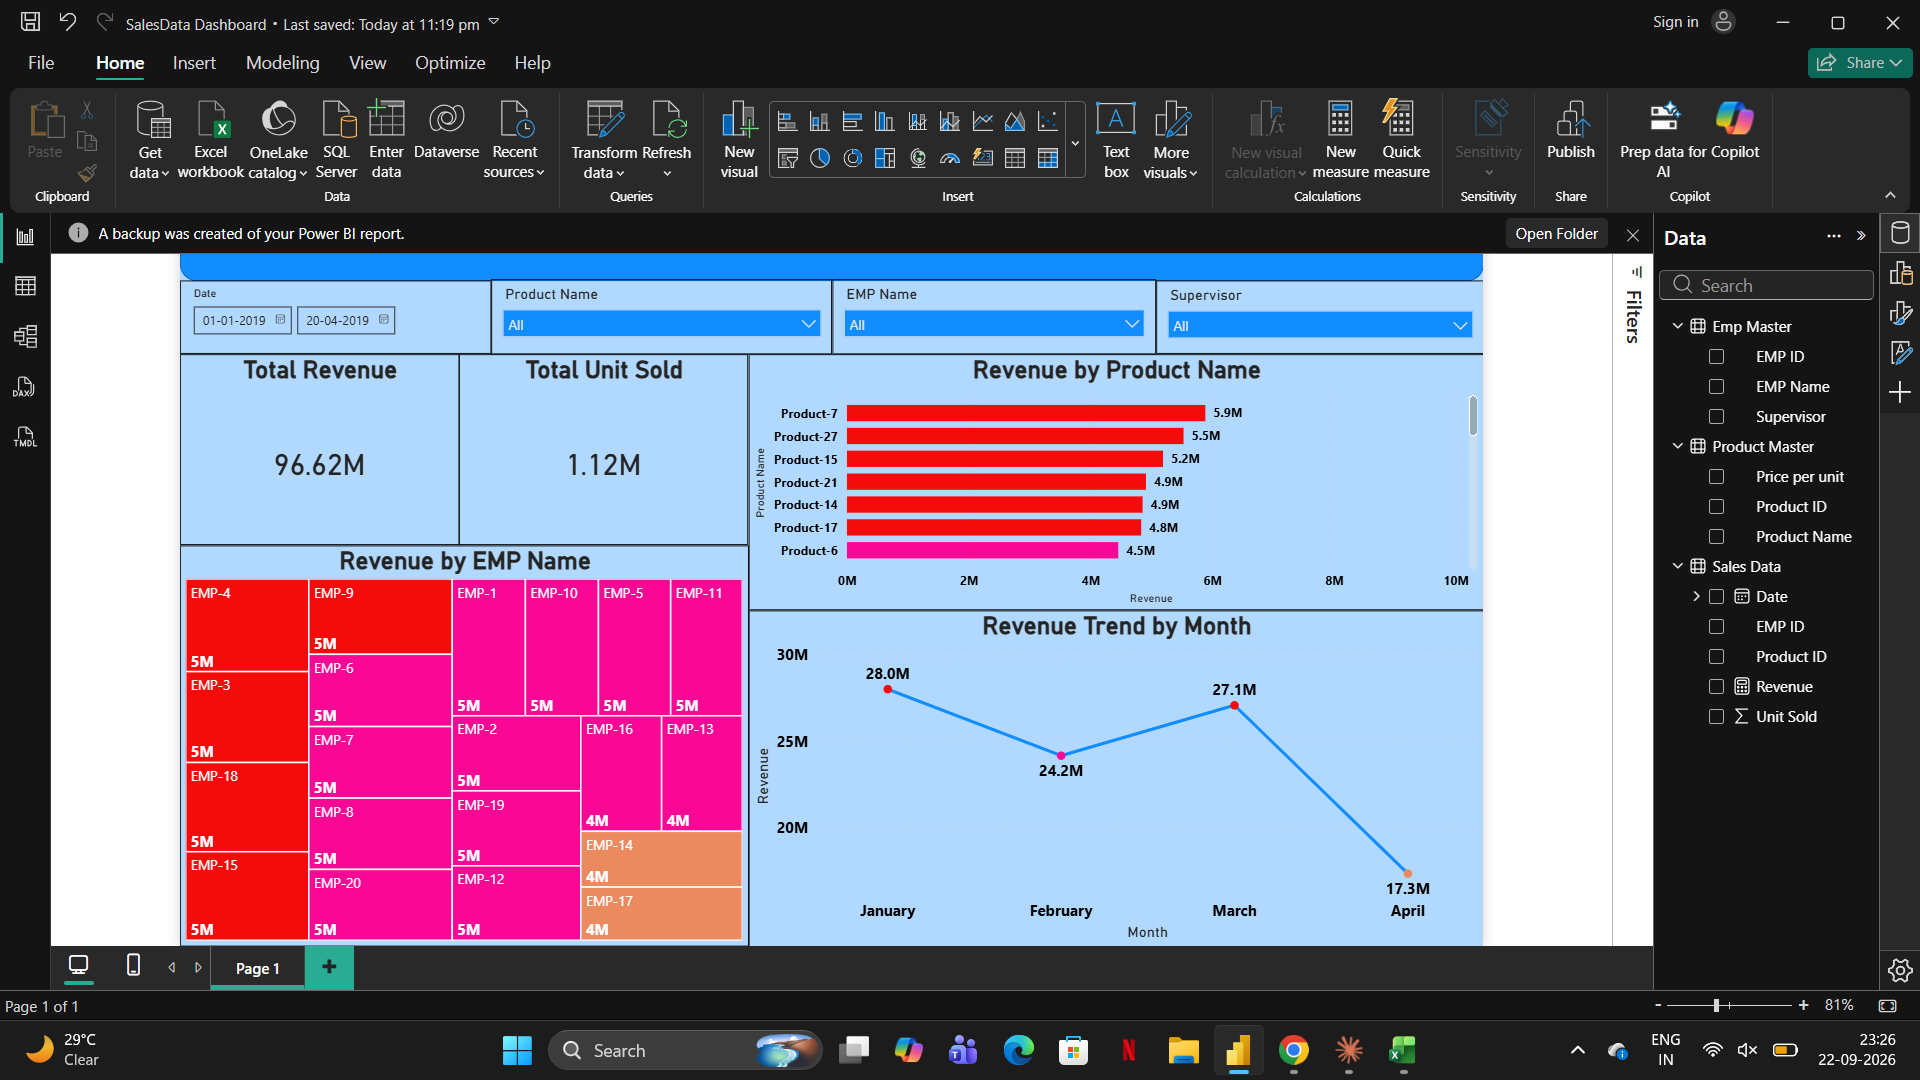

The dashboard page shown, as its layout file describes it:
{"tool":"powerbi","page":{"name":"Page 1","canvas":[1280,720],"ordinal":0},"visuals":[{"type":"shape","box":[0,0,1280,67],"z":0},{"type":"slicer","fields":{"Values":["Sales Data.Date"]},"box":[0,66.4,305.9,72.1],"z":1000},{"type":"slicer","fields":{"Values":["Product Master.Product Name"]},"box":[305.9,64.9,334.7,73.6],"z":2000},{"type":"slicer","fields":{"Values":["Emp Master.EMP Name"]},"box":[640.6,64.9,317.4,73.6],"z":3000},{"type":"slicer","fields":{"Values":["Emp Master.Supervisor"]},"box":[958,66.4,321.7,72.1],"z":4000},{"type":"card","title":"Total Revenue","fields":{"Values":["Sales Data.Revenue"]},"box":[0,138.5,274.1,187.6],"z":5000},{"type":"card","title":"Total Unit Sold ","fields":{"Values":["Sum(Sales Data.Unit Sold)"]},"box":[274.1,138.5,284.2,187.6],"z":6000},{"type":"clusteredBarChart","fields":{"Category":["Product Master.Product Name"],"Y":["Sales Data.Revenue"]},"box":[558.3,138.7,721.5,251.5],"z":7000},{"type":"treemap","fields":{"Group":["Emp Master.EMP Name"],"Values":["Sales Data.Revenue"]},"box":[0,326.1,558.3,393.9],"z":8000},{"type":"lineChart","title":"Revenue Trend by Month","fields":{"Category":["Sales Data.Date.Variation.Date Hierarchy.Month"],"Y":["Sales Data.Revenue"]},"box":[558.3,390.2,721.5,330.1],"z":8001}]}

Visuals, with their boxes on the page's 1280x720 design canvas (x1, y1, x2, y2). These are canvas units, not pixel positions in the 1920x1080 screenshot, which may show the page scaled, cropped or inside an application window:
shape: pyautogui.locateOnScreen(0, 0, 1280, 67)
slicer - Sales Data.Date: pyautogui.locateOnScreen(0, 66, 306, 138)
slicer - Product Master.Product Name: pyautogui.locateOnScreen(306, 65, 641, 138)
slicer - Emp Master.EMP Name: pyautogui.locateOnScreen(641, 65, 958, 138)
slicer - Emp Master.Supervisor: pyautogui.locateOnScreen(958, 66, 1280, 138)
"Total Revenue" card: pyautogui.locateOnScreen(0, 138, 274, 326)
"Total Unit Sold " card: pyautogui.locateOnScreen(274, 138, 558, 326)
clusteredBarChart - Product Master.Product Name x Sales Data.Revenue: pyautogui.locateOnScreen(558, 139, 1280, 390)
treemap - Emp Master.EMP Name x Sales Data.Revenue: pyautogui.locateOnScreen(0, 326, 558, 720)
"Revenue Trend by Month" lineChart: pyautogui.locateOnScreen(558, 390, 1280, 720)
